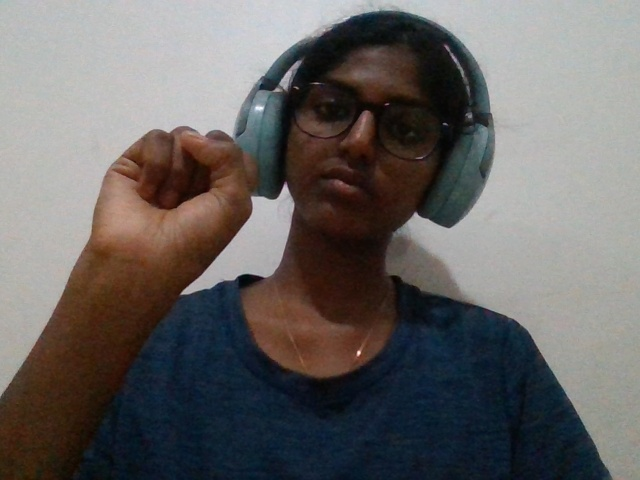Yes: (69, 103, 262, 350)
